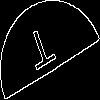T: (25, 25, 60, 79)
